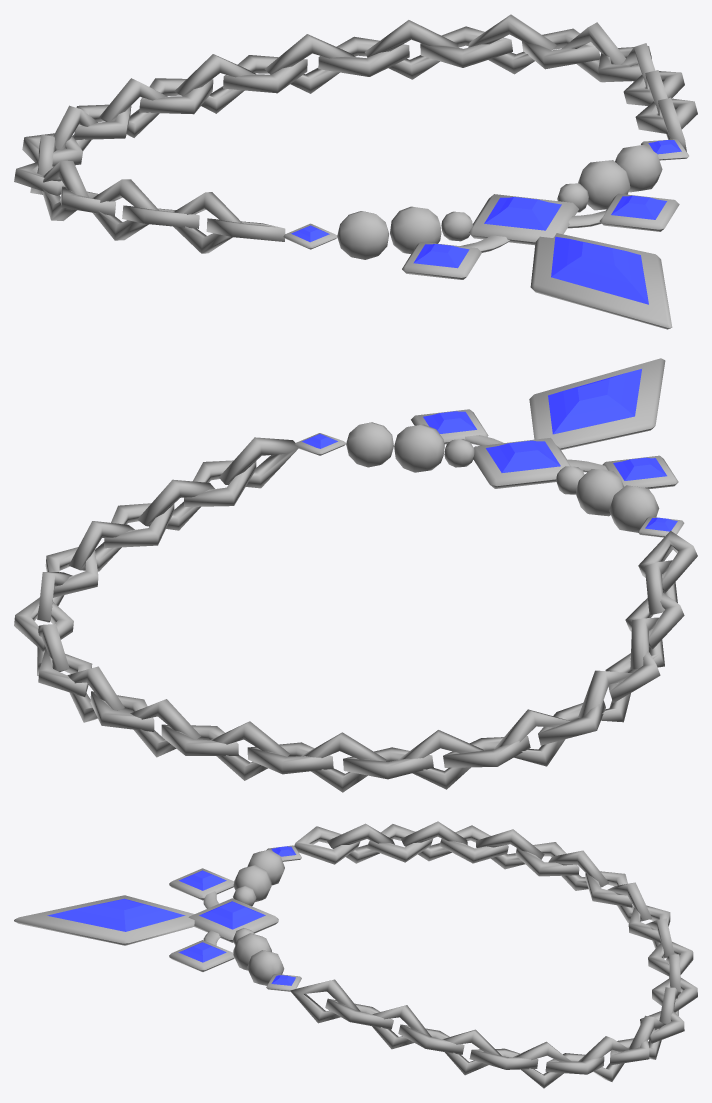
The model's file is necklace_test.glb.
The picture shows the model from 3 angles, top to bottom: view 1: azimuth 30°, elevation 25°; view 2: azimuth 150°, elevation 25°; view 3: azimuth 270°, elevation 25°; orthographic projection. The views are drawn at different scales.
Visible parts, largest first — view 1: Plane.001; view 2: Plane.001; view 3: Plane.001.
Part boxes in pixels (left/top/right/bottom): Plane.001: left=14, top=14, right=697, bottom=329; Plane.001: left=14, top=358, right=697, bottom=792; Plane.001: left=14, top=821, right=697, bottom=1088.
Bounding box in the file's own units: 0.0157 × 0.00326 × 0.0203.
